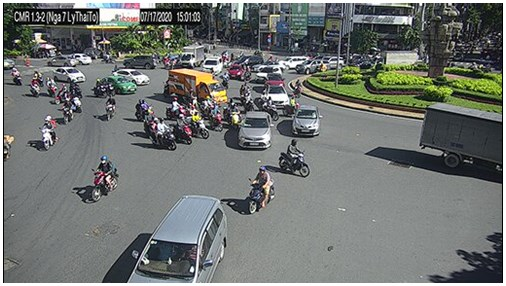xe_hoi: (126, 196, 228, 284), (237, 110, 271, 151), (292, 105, 320, 138), (94, 76, 138, 94), (263, 81, 290, 108), (112, 68, 151, 85), (52, 67, 86, 84), (122, 54, 158, 68), (296, 60, 328, 75), (255, 66, 283, 82), (202, 56, 223, 76), (226, 61, 248, 80), (45, 57, 79, 66), (68, 54, 92, 65)
xe_may: (245, 166, 277, 213), (90, 156, 122, 202), (277, 138, 310, 179), (150, 118, 179, 151), (184, 110, 210, 139), (39, 116, 60, 151), (173, 113, 192, 146), (165, 98, 187, 120), (209, 103, 224, 134), (263, 96, 280, 122), (144, 112, 159, 140), (133, 100, 153, 120), (283, 94, 301, 115), (227, 101, 240, 130), (55, 83, 71, 106), (63, 97, 75, 125), (104, 93, 116, 120), (92, 78, 107, 98), (10, 66, 24, 86), (29, 77, 41, 98), (239, 81, 251, 101), (70, 81, 82, 100), (292, 78, 303, 96)
xe_tai: (420, 101, 503, 176), (168, 68, 228, 106), (370, 51, 419, 68), (180, 44, 204, 67)
